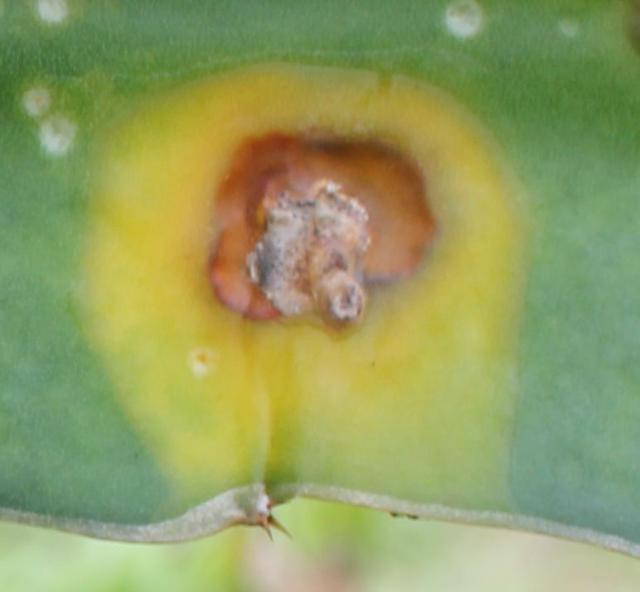stemcanker: (57, 38, 554, 500)
